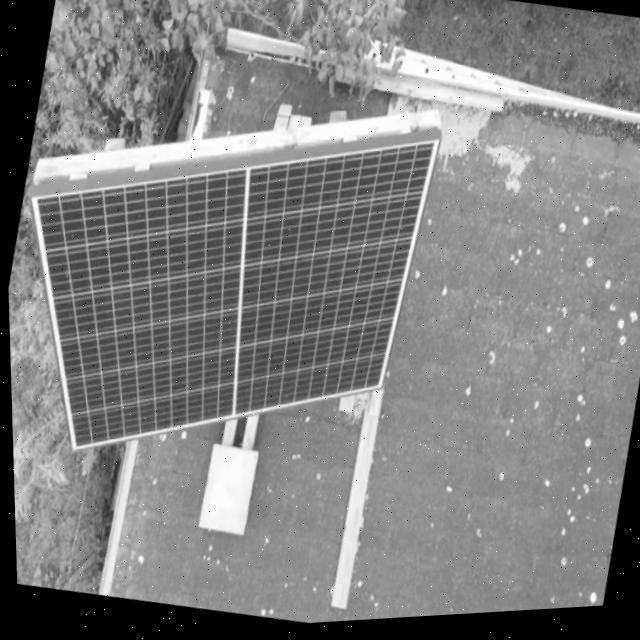Normal Solar Panel: (2, 73, 445, 511)
